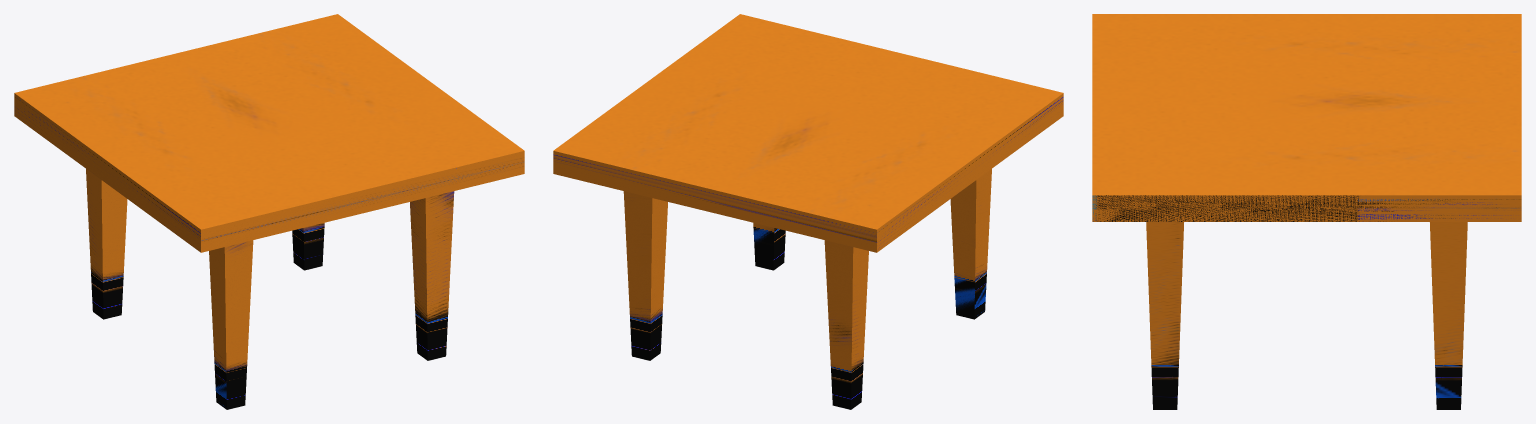
The model's file is Table_2.fbx.
3 renders of one model, left to right at view 1: azimuth 30°, elevation 25°; view 2: azimuth 150°, elevation 25°; view 3: azimuth 270°, elevation 25°, orthographic. The views are drawn at different scales.
Visible parts, largest first — view 1: Cube; view 2: Cube; view 3: Cube.
Part boxes in pixels (x1,y1,x2,y2): Cube: [14, 14, 524, 409]; Cube: [553, 14, 1063, 409]; Cube: [1092, 14, 1521, 409].
Size of the model in its own units: 200 by 125 by 200.
